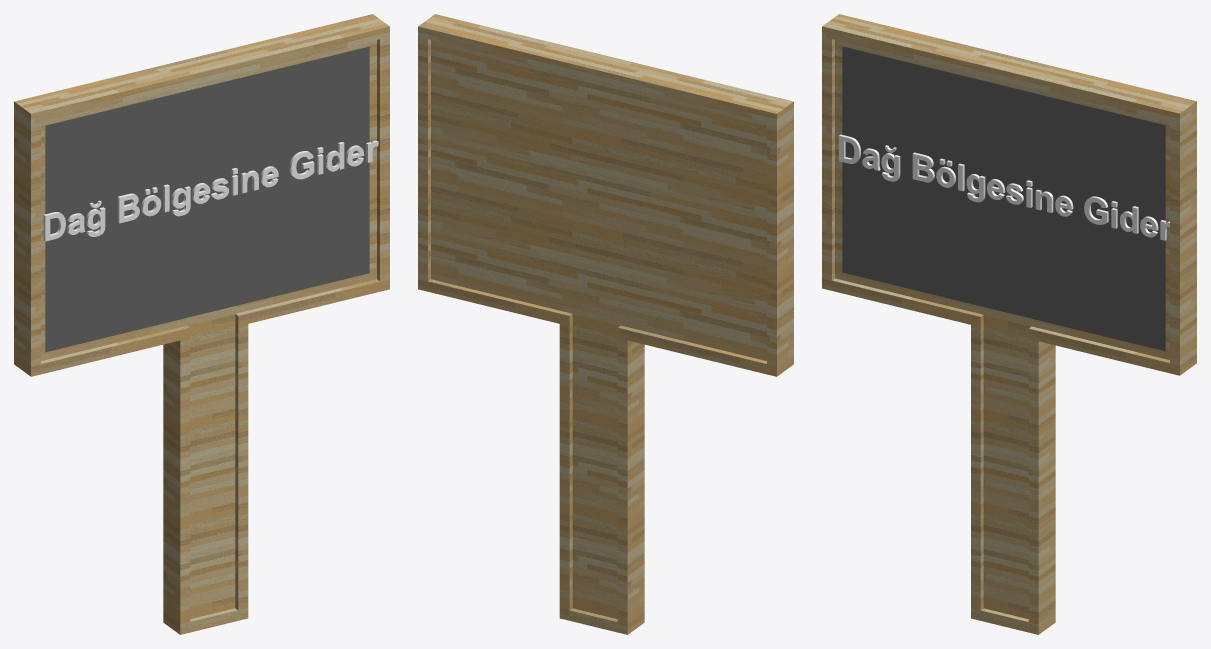
The model's file is ortatabela.dae.
The picture shows the model from 3 angles, left to right: view 1: azimuth 30°, elevation 25°; view 2: azimuth 150°, elevation 25°; view 3: azimuth 330°, elevation 25°; orthographic projection.
Visible parts, largest first — view 1: Component_2 (×3); view 2: Component_2 (×2); view 3: Component_2 (×3).
Boxes of the visible parts, box(x1,y1,x2,y2) form: Component_2 (×3): box(14, 14, 389, 634); Component_2 (×2): box(418, 14, 793, 634); Component_2 (×3): box(822, 14, 1196, 634).
Size of the model in its own units: 192 by 15.75 by 285.
Materials: 3 (1 with a texture image).
